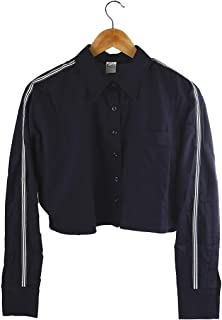shirt: (11, 42, 218, 232)
